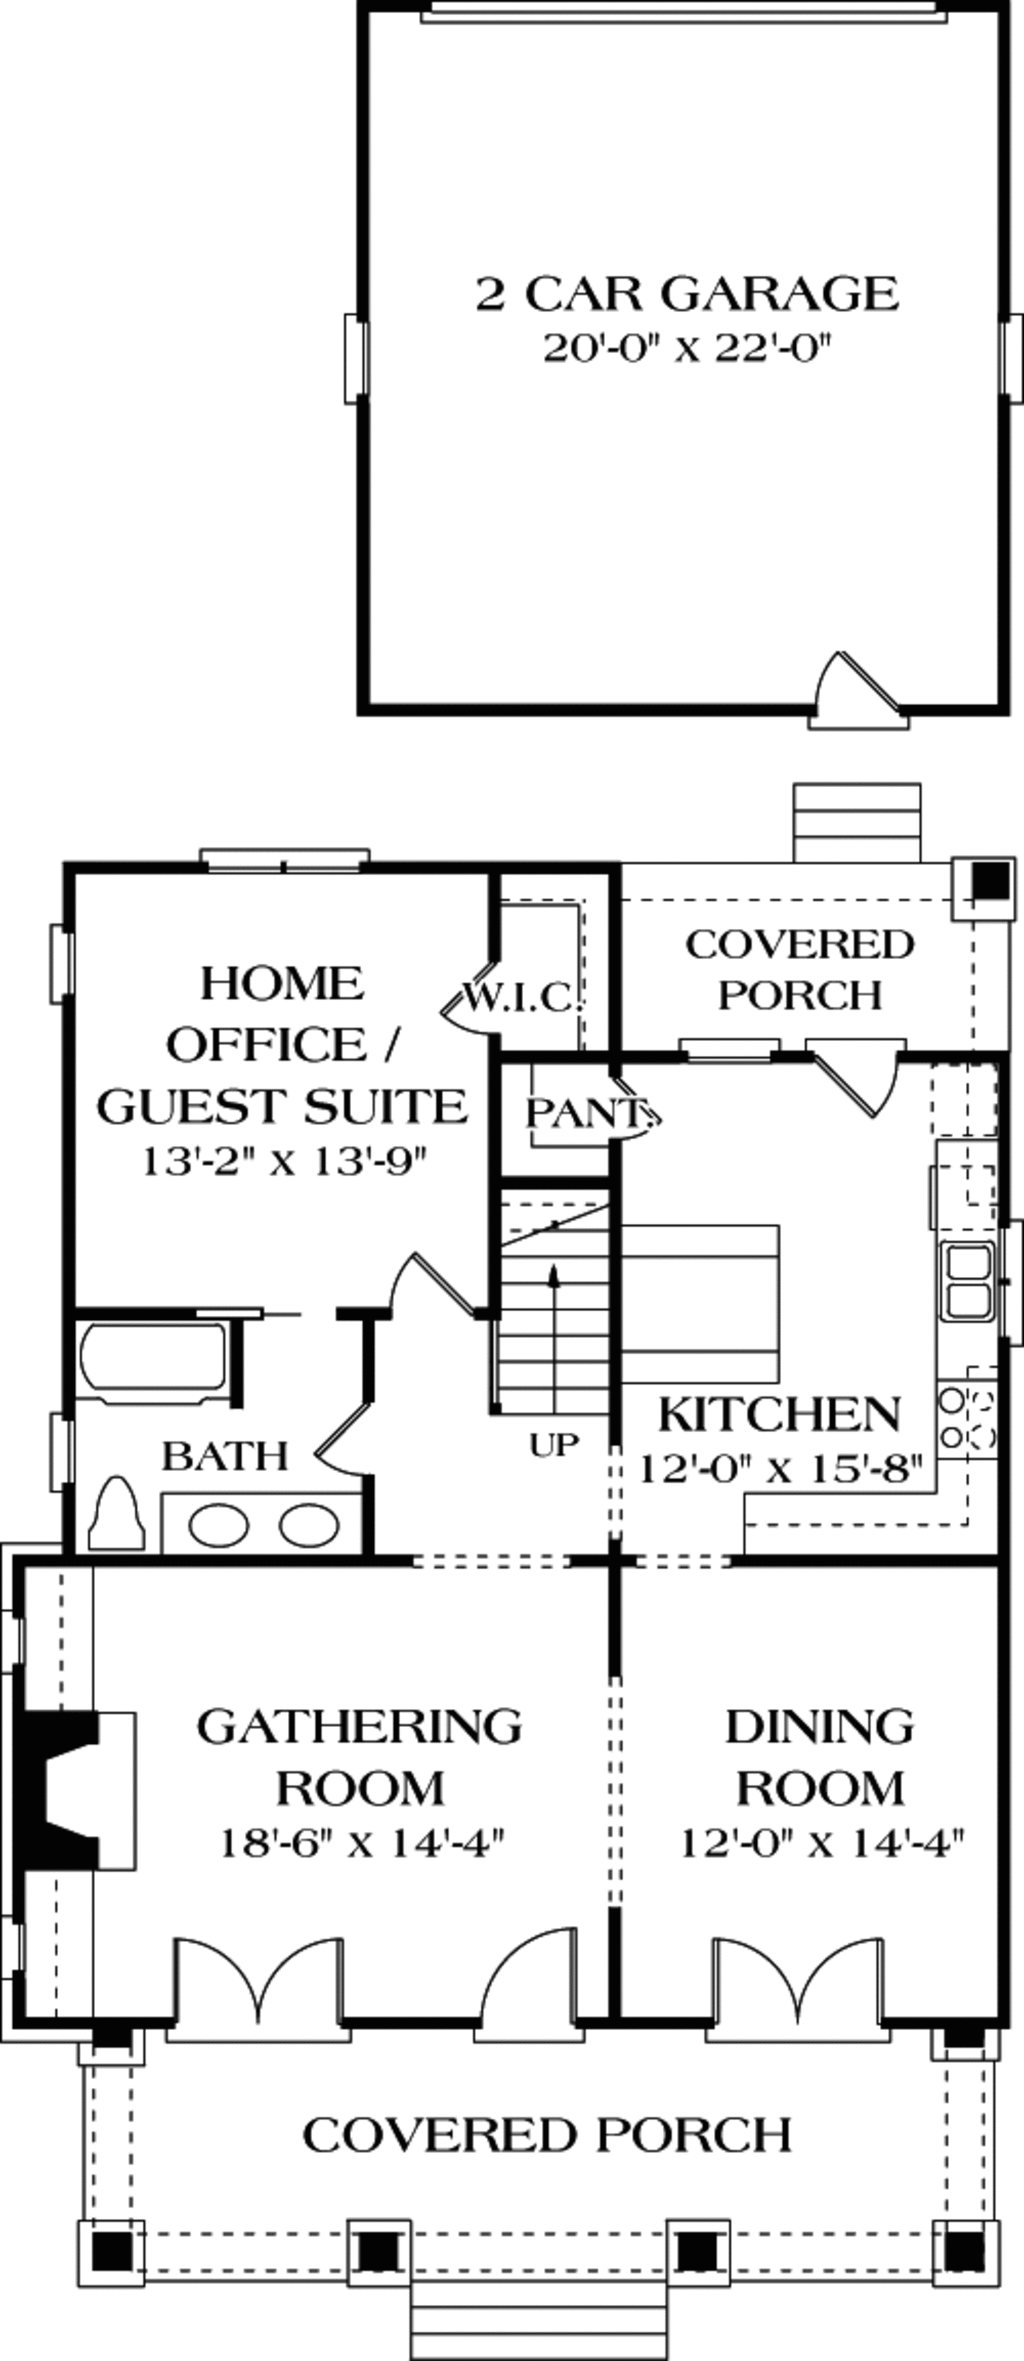door: (670, 1915, 911, 2040), (148, 1926, 367, 2037), (449, 1930, 593, 2040), (807, 637, 922, 736), (300, 1378, 396, 1485), (807, 1015, 904, 1117), (370, 1238, 470, 1315), (444, 955, 530, 1043)
large_sink: (84, 1470, 163, 1558)
small_sink: (170, 1494, 337, 1563)
stairs: (477, 1155, 599, 1433)
tub: (63, 1315, 267, 1411)
twin_sink: (907, 1211, 1000, 1345)
window: (190, 833, 386, 900), (30, 903, 107, 1030), (330, 304, 401, 434), (985, 1226, 1024, 1348), (992, 297, 1022, 411)
